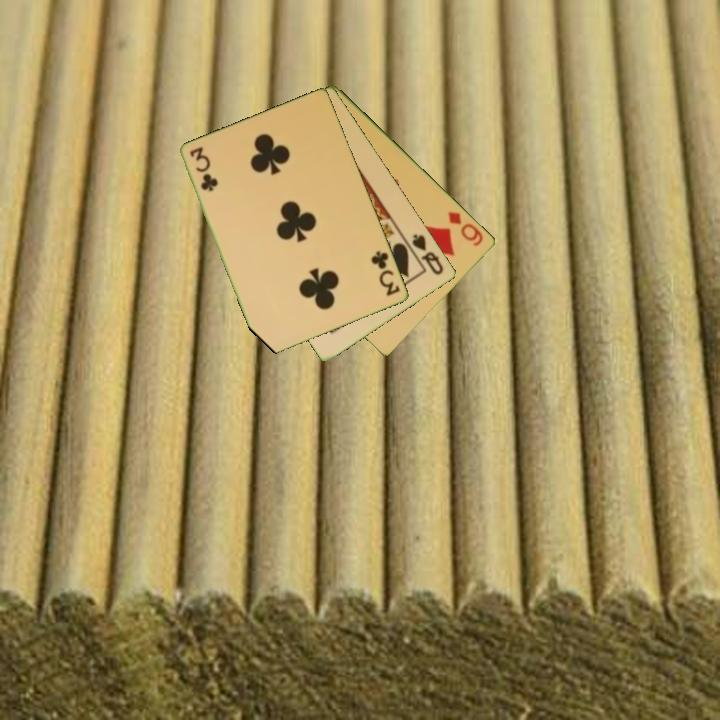3c: (368, 247, 403, 299), (186, 144, 220, 195)
6d: (445, 208, 486, 249)
Qs: (409, 230, 447, 278)
